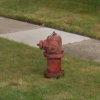Hydrant: (34, 24, 68, 76)
